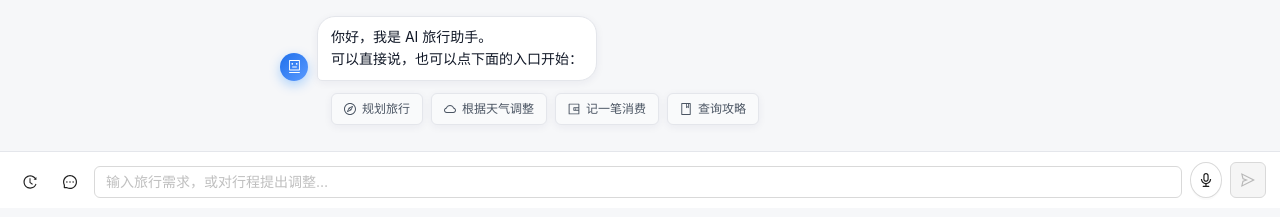
Test: ChatPanel · V2.2 过程时间线与同步结果面板 › 输入消息后点发送按钮调用 store.send（带当前行程/日期上下文）
Later steps or results of the test are not shown.
In the text box with placeholder "输入旅行需求，或对行程提出调整…": {"x": 638, "y": 182} [94, 166, 1182, 198], type "  帮我规划上海三日游  "
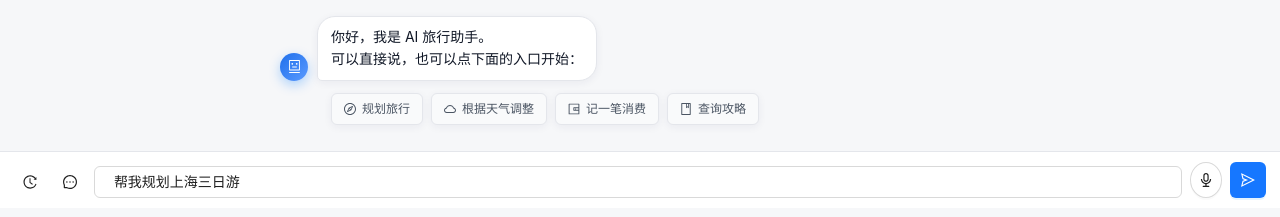
Expected: the button named "发送" is enabled, [1230, 162, 1266, 198]
